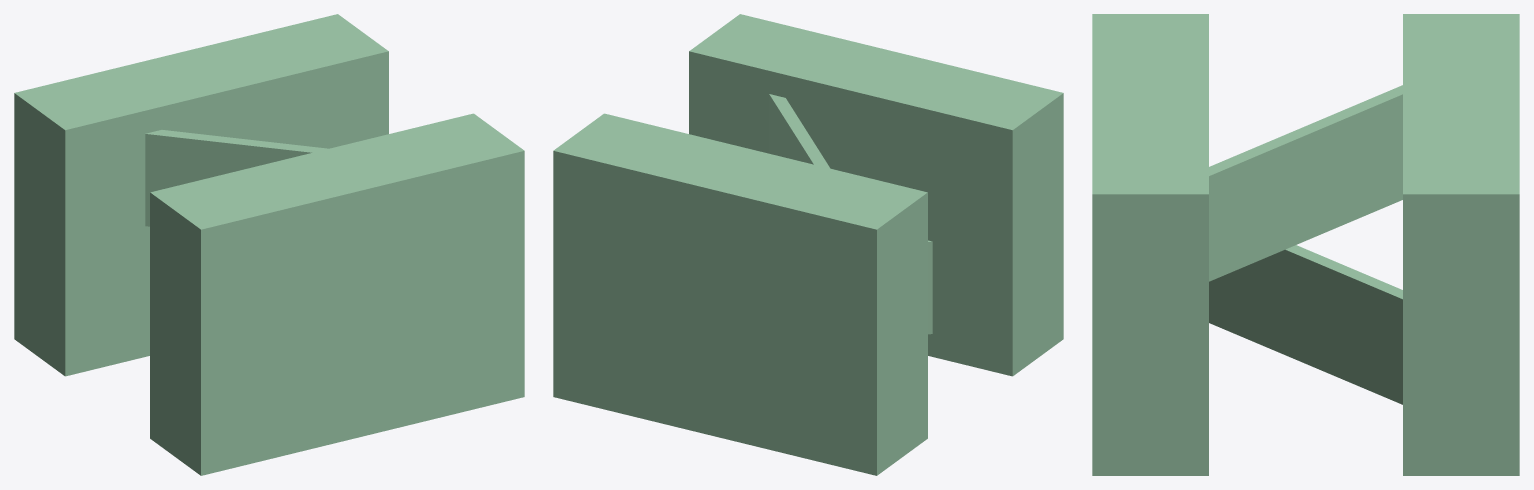
Rendered from cross_flexure_demo.glb.
3 views of the same model, side by side, from view 1: azimuth 30°, elevation 25°; view 2: azimuth 150°, elevation 25°; view 3: azimuth 270°, elevation 25° (orthographic). The views are drawn at different scales.
Parts seen in each view (by area): view 1: cross_flexure_pivot; view 2: cross_flexure_pivot; view 3: cross_flexure_pivot.
Part boxes in pixels (x1=…): cross_flexure_pivot: x1=14, y1=14, x2=524, y2=475; cross_flexure_pivot: x1=553, y1=14, x2=1063, y2=475; cross_flexure_pivot: x1=1092, y1=14, x2=1519, y2=475.
Bounding box in the file's own units: 22 × 16 × 22.
